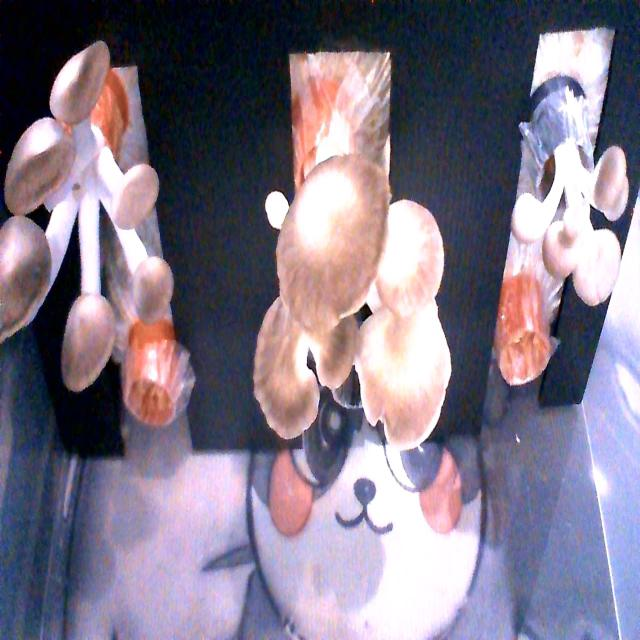big: (252, 155, 452, 462), (0, 40, 170, 382)
nfound: (113, 340, 203, 430), (498, 310, 557, 408)
small: (506, 99, 632, 308)
